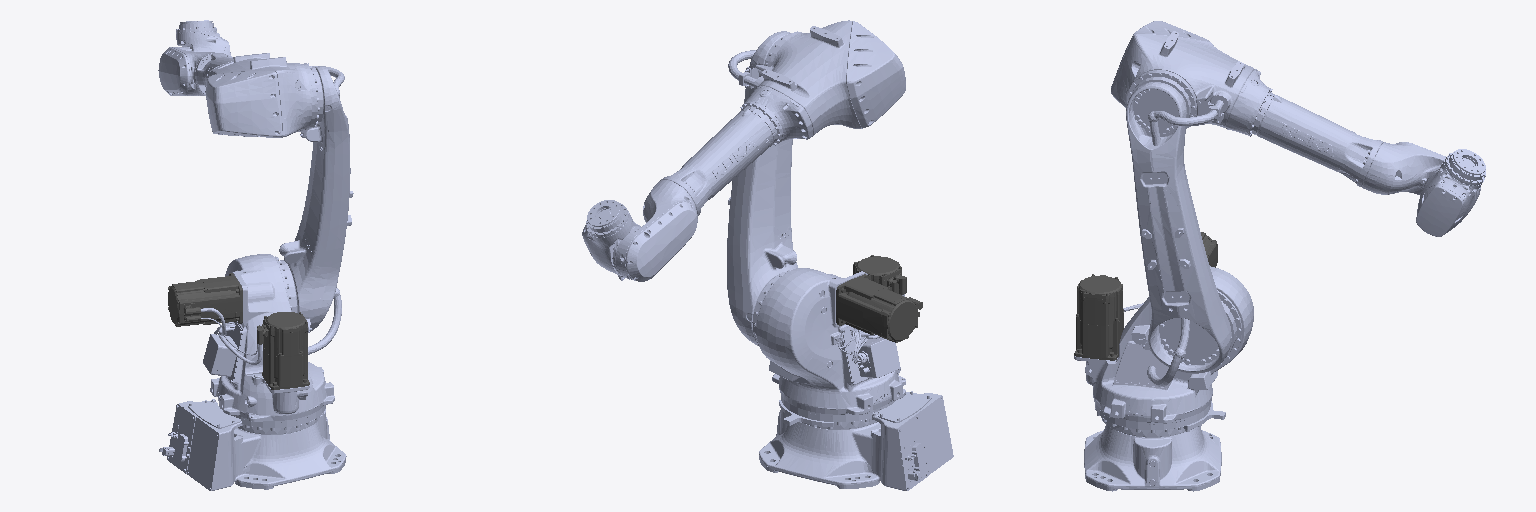
robot.urdf — Kuka-KR70-URDF:
<?xml version="1.0" encoding="utf-8"?>
<!-- This URDF was automatically created by SolidWorks to URDF Exporter! Originally created by [author] ([email redacted]) 
     Commit Version: 1.5.1-0-g916b5db  Build Version: 1.5.7152.31018
     For more information, please see http://wiki.ros.org/sw_urdf_exporter -->
<robot
  name="Kuka-KR70-URDF">
  <link
    name="Base">
    <inertial>
      <origin
        xyz="-0.030929 -0.012384 0.014671"
        rpy="0 0 0" />
      <mass
        value="30.385" />
      <inertia
        ixx="0.38941"
        ixy="0.060696"
        ixz="-0.0047083"
        iyy="1.0819"
        iyz="0.00029206"
        izz="0.87424" />
    </inertial>
    <visual>
      <origin
        xyz="0 0 0"
        rpy="0 0 0" />
      <geometry>
        <mesh
          filename="package://Kuka-KR70-URDF/meshes/Base.STL" />
      </geometry>
      <material
        name="">
        <color
          rgba="0.79216 0.81961 0.93333 1" />
      </material>
    </visual>
    <collision>
      <origin
        xyz="0 0 0"
        rpy="0 0 0" />
      <geometry>
        <mesh
          filename="package://Kuka-KR70-URDF/meshes/Base.STL" />
      </geometry>
    </collision>
  </link>
  <link
    name="Rotating Base">
    <inertial>
      <origin
        xyz="0.060045 0.011667 0.24706"
        rpy="0 0 0" />
      <mass
        value="56.095" />
      <inertia
        ixx="1.7124"
        ixy="0.020887"
        ixz="-0.52525"
        iyy="2.1535"
        iyz="-0.031415"
        izz="1.3169" />
    </inertial>
    <visual>
      <origin
        xyz="0 0 0"
        rpy="0 0 0" />
      <geometry>
        <mesh
          filename="package://Kuka-KR70-URDF/meshes/Rotating Base.STL" />
      </geometry>
      <material
        name="">
        <color
          rgba="0.79216 0.81961 0.93333 1" />
      </material>
    </visual>
    <collision>
      <origin
        xyz="0 0 0"
        rpy="0 0 0" />
      <geometry>
        <mesh
          filename="package://Kuka-KR70-URDF/meshes/Rotating Base.STL" />
      </geometry>
    </collision>
  </link>
  <joint
    name="Joint 1"
    type="continuous">
    <origin
      xyz="0.049656 -0.015347 0.070862"
      rpy="0 0 1.3143" />
    <parent
      link="Base" />
    <child
      link="Rotating Base" />
    <axis
      xyz="0 0 1" />
  </joint>
  <link
    name="Arm Segment 1">
    <inertial>
      <origin
        xyz="0.002698 -0.26551 0.40155"
        rpy="0 0 0" />
      <mass
        value="20.102" />
      <inertia
        ixx="1.3389"
        ixy="-0.001185"
        ixz="0.02478"
        iyy="1.3628"
        iyz="0.11122"
        izz="0.12917" />
    </inertial>
    <visual>
      <origin
        xyz="0 0 0"
        rpy="0 0 0" />
      <geometry>
        <mesh
          filename="package://Kuka-KR70-URDF/meshes/Arm Segment 1.STL" />
      </geometry>
      <material
        name="">
        <color
          rgba="0.79216 0.81961 0.93333 1" />
      </material>
    </visual>
    <collision>
      <origin
        xyz="0 0 0"
        rpy="0 0 0" />
      <geometry>
        <mesh
          filename="package://Kuka-KR70-URDF/meshes/Arm Segment 1.STL" />
      </geometry>
    </collision>
  </link>
  <joint
    name="Arm Joint 1"
    type="continuous">
    <origin
      xyz="0.175 0.034678 0.405"
      rpy="0 -0.11505 0" />
    <parent
      link="Rotating Base" />
    <child
      link="Arm Segment 1" />
    <axis
      xyz="0 1 0" />
  </joint>
  <link
    name="Arm Segment 2">
    <inertial>
      <origin
        xyz="0.030512 -0.012385 0.016244"
        rpy="0 0 0" />
      <mass
        value="36.684" />
      <inertia
        ixx="0.56397"
        ixy="0.064838"
        ixz="-0.082203"
        iyy="0.78695"
        iyz="0.0037968"
        izz="1.0152" />
    </inertial>
    <visual>
      <origin
        xyz="0 0 0"
        rpy="0 0 0" />
      <geometry>
        <mesh
          filename="package://Kuka-KR70-URDF/meshes/Arm Segment 2.STL" />
      </geometry>
      <material
        name="">
        <color
          rgba="0.79216 0.81961 0.93333 1" />
      </material>
    </visual>
    <collision>
      <origin
        xyz="0 0 0"
        rpy="0 0 0" />
      <geometry>
        <mesh
          filename="package://Kuka-KR70-URDF/meshes/Arm Segment 2.STL" />
      </geometry>
    </collision>
  </link>
  <joint
    name="Arm Joint 2"
    type="continuous">
    <origin
      xyz="0 0 0.89"
      rpy="0 0.47605 0" />
    <parent
      link="Arm Segment 1" />
    <child
      link="Arm Segment 2" />
    <axis
      xyz="0 1 0" />
  </joint>
  <link
    name="Arm Segment 3">
    <inertial>
      <origin
        xyz="0.43146 0.028053 -6.0745E-05"
        rpy="0 0 0" />
      <mass
        value="15.154" />
      <inertia
        ixx="0.070105"
        ixy="-0.099009"
        ixz="0.00018278"
        iyy="0.72993"
        iyz="-2.5788E-05"
        izz="0.7484" />
    </inertial>
    <visual>
      <origin
        xyz="0 0 0"
        rpy="0 0 0" />
      <geometry>
        <mesh
          filename="package://Kuka-KR70-URDF/meshes/Arm Segment 3.STL" />
      </geometry>
      <material
        name="">
        <color
          rgba="0.79216 0.81961 0.93333 1" />
      </material>
    </visual>
    <collision>
      <origin
        xyz="0 0 0"
        rpy="0 0 0" />
      <geometry>
        <mesh
          filename="package://Kuka-KR70-URDF/meshes/Arm Segment 3.STL" />
      </geometry>
    </collision>
  </link>
  <joint
    name="Arm Joint 3"
    type="continuous">
    <origin
      xyz="0.29549 -0.034678 0.05"
      rpy="0.078632 0 0" />
    <parent
      link="Arm Segment 2" />
    <child
      link="Arm Segment 3" />
    <axis
      xyz="1 0 0" />
  </joint>
  <link
    name="Arm Segment 4">
    <inertial>
      <origin
        xyz="0.034816 -0.033367 -7.8652E-05"
        rpy="0 0 0" />
      <mass
        value="5.1749" />
      <inertia
        ixx="0.019894"
        ixy="-0.0037952"
        ixz="-3.1764E-05"
        iyy="0.032541"
        iyz="2.0356E-05"
        izz="0.033447" />
    </inertial>
    <visual>
      <origin
        xyz="0 0 0"
        rpy="0 0 0" />
      <geometry>
        <mesh
          filename="package://Kuka-KR70-URDF/meshes/Arm Segment 4.STL" />
      </geometry>
      <material
        name="">
        <color
          rgba="0.79216 0.81961 0.93333 1" />
      </material>
    </visual>
    <collision>
      <origin
        xyz="0 0 0"
        rpy="0 0 0" />
      <geometry>
        <mesh
          filename="package://Kuka-KR70-URDF/meshes/Arm Segment 4.STL" />
      </geometry>
    </collision>
  </link>
  <joint
    name="Arm Joint 4"
    type="continuous">
    <origin
      xyz="0.73951 0 0"
      rpy="0 -1.4401 0" />
    <parent
      link="Arm Segment 3" />
    <child
      link="Arm Segment 4" />
    <axis
      xyz="0 1 0" />
  </joint>
  <link
    name="Arm Segment 5">
    <inertial>
      <origin
        xyz="0.031639 -2.9716E-06 -4.1515E-05"
        rpy="0 0 0" />
      <mass
        value="0.36297" />
      <inertia
        ixx="0.00080922"
        ixy="9.9703E-10"
        ixz="2.4184E-07"
        iyy="0.00044078"
        iyz="1.1575E-07"
        izz="0.00044169" />
    </inertial>
    <visual>
      <origin
        xyz="0 0 0"
        rpy="0 0 0" />
      <geometry>
        <mesh
          filename="package://Kuka-KR70-URDF/meshes/Arm Segment 5.STL" />
      </geometry>
      <material
        name="">
        <color
          rgba="0.79216 0.81961 0.93333 1" />
      </material>
    </visual>
    <collision>
      <origin
        xyz="0 0 0"
        rpy="0 0 0" />
      <geometry>
        <mesh
          filename="package://Kuka-KR70-URDF/meshes/Arm Segment 5.STL" />
      </geometry>
    </collision>
  </link>
  <joint
    name="Arm Joint 5"
    type="continuous">
    <origin
      xyz="0.13479 0 0"
      rpy="0.98332 0 0" />
    <parent
      link="Arm Segment 4" />
    <child
      link="Arm Segment 5" />
    <axis
      xyz="1 0 0" />
  </joint>
  
  <!--
  <link name="tool_tip">
    <inertial>
      <mass value="0.0"/>
      <origin rpy="0.98332 0 0" xyz="0.13479 0 0"/>
      <inertia ixx="0.0" ixy="0.0" ixz="0.0" iyy="0.0" iyz="0.0" izz="0.0"/>
    </inertial> -->
    <!-- <visual>
      <geometry>
        <box size="0.01 0.01 0.01"/>
      </geometry>
      <origin rpy="0 0 0" xyz="0 0 0"/>
    </visual> -->
  <!--
  </link>
  <joint name="Arm Joint 5-tool_tip" type="fixed">
    <origin rpy="0 0 0" xyz="0 0 0.12"/>
    <parent link="Arm Joint 5"/>
    <child link="tool_tip"/>
  </joint> -->

  <link
    name="Motor 1">
    <inertial>
      <origin
        xyz="0.058996 0.24434 0.65537"
        rpy="0 0 0" />
      <mass
        value="5.3004" />
      <inertia
        ixx="0.037634"
        ixy="0.00057135"
        ixz="3.7437E-05"
        iyy="0.017681"
        iyz="-3.0733E-05"
        izz="0.038584" />
    </inertial>
    <visual>
      <origin
        xyz="0 0 0"
        rpy="0 0 0" />
      <geometry>
        <mesh
          filename="package://Kuka-KR70-URDF/meshes/Motor 1.STL" />
      </geometry>
      <material
        name="">
        <color
          rgba="0.4 0.4 0.4 1" />
      </material>
    </visual>
    <collision>
      <origin
        xyz="0 0 0"
        rpy="0 0 0" />
      <geometry>
        <mesh
          filename="package://Kuka-KR70-URDF/meshes/Motor 1.STL" />
      </geometry>
    </collision>
  </link>
  <joint
    name="Motor Connection 1"
    type="fixed">
    <origin
      xyz="0.4653 0.060319 0.1215"
      rpy="1.5708 0 -1.5708" />
    <parent
      link="Rotating Base" />
    <child
      link="Motor 1" />
    <axis
      xyz="0 0 0" />
  </joint>
  <link
    name="Motor 2">
    <inertial>
      <origin
        xyz="0.058996 0.24434 0.65537"
        rpy="0 0 0" />
      <mass
        value="5.3004" />
      <inertia
        ixx="0.037634"
        ixy="0.00057135"
        ixz="3.7437E-05"
        iyy="0.017681"
        iyz="-3.0734E-05"
        izz="0.038584" />
    </inertial>
    <visual>
      <origin
        xyz="0 0 0"
        rpy="0 0 0" />
      <geometry>
        <mesh
          filename="package://Kuka-KR70-URDF/meshes/Motor 2.STL" />
      </geometry>
      <material
        name="">
        <color
          rgba="0.4 0.4 0.4 1" />
      </material>
    </visual>
    <collision>
      <origin
        xyz="0 0 0"
        rpy="0 0 0" />
      <geometry>
        <mesh
          filename="package://Kuka-KR70-URDF/meshes/Motor 2.STL" />
      </geometry>
    </collision>
  </link>
  <joint
    name="Motor Connection 2"
    type="fixed">
    <origin
      xyz="0 0 -0.17"
      rpy="0 0 0" />
    <parent
      link="Rotating Base" />
    <child
      link="Motor 2" />
    <axis
      xyz="0 0 0" />
  </joint>
</robot>

--- What the picture shows (computed from the rendered views, not written in the file) ---
The picture shows the robot from 3 angles, left to right: view 1: azimuth 30°, elevation 25°; view 2: azimuth 150°, elevation 25°; view 3: azimuth 270°, elevation 25°; orthographic projection.
Robot: Kuka-KR70-URDF — 9 links, 8 joints (6 continuous, 2 fixed); root link Base; default pose: all joints at 0.
Links seen in each view (by area): view 1: Rotating Base, Base, Arm Segment 1, Arm Segment 2, Motor 1, Motor 2, Arm Segment 3, Arm Segment 4; view 2: Rotating Base, Arm Segment 2, Base, Arm Segment 3, Arm Segment 1, Motor 2, Arm Segment 4, Motor 1, Arm Segment 5; view 3: Arm Segment 1, Rotating Base, Arm Segment 2, Arm Segment 3, Base, Motor 1, Arm Segment 4, Arm Segment 5.
Link boxes in pixels (bbox=[...]): Rotating Base: bbox=[201, 254, 341, 434]; Base: bbox=[159, 399, 346, 490]; Arm Segment 1: bbox=[279, 66, 353, 332]; Arm Segment 2: bbox=[206, 53, 344, 137]; Motor 1: bbox=[257, 312, 309, 389]; Motor 2: bbox=[168, 273, 242, 326]; Arm Segment 3: bbox=[158, 47, 233, 95]; Arm Segment 4: bbox=[176, 23, 230, 55]; Rotating Base: bbox=[752, 268, 905, 429]; Arm Segment 2: bbox=[728, 20, 905, 145]; Base: bbox=[759, 391, 953, 490]; Arm Segment 3: bbox=[612, 107, 772, 281]; Arm Segment 1: bbox=[727, 31, 797, 345]; Motor 2: bbox=[836, 274, 922, 342]; Arm Segment 4: bbox=[582, 202, 640, 280]; Motor 1: bbox=[853, 255, 906, 294]; Arm Segment 5: bbox=[587, 200, 621, 227]; Arm Segment 1: bbox=[1126, 82, 1231, 373]; Rotating Base: bbox=[1074, 266, 1253, 437]; Arm Segment 2: bbox=[1111, 21, 1274, 136]; Arm Segment 3: bbox=[1256, 94, 1480, 207]; Base: bbox=[1084, 425, 1221, 491]; Motor 1: bbox=[1074, 274, 1123, 360]; Arm Segment 4: bbox=[1416, 151, 1485, 236]; Arm Segment 5: bbox=[1452, 149, 1485, 175].
Size in the robot's own frame: 0.8112 by 1.44 by 1.64 metres.
9 mesh visuals loaded from 9 distinct referenced files (9 binary STL).